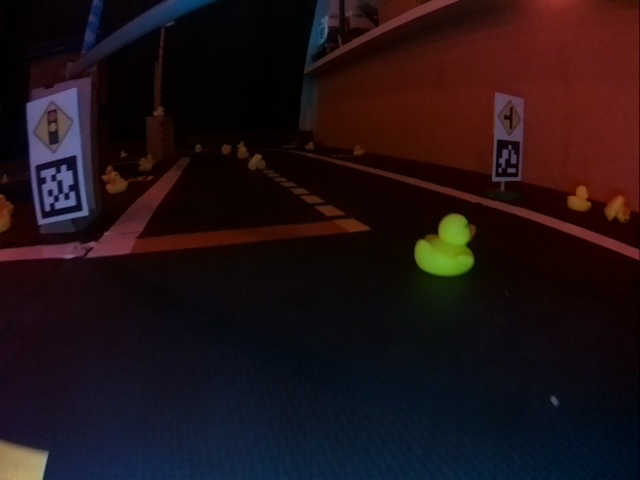Duckie: (417, 215, 473, 272), (607, 196, 630, 221), (570, 186, 589, 212), (106, 174, 127, 193), (250, 155, 265, 170)
Intersection sign: (495, 95, 522, 134)
QR code: (33, 162, 86, 219), (494, 139, 521, 180)
